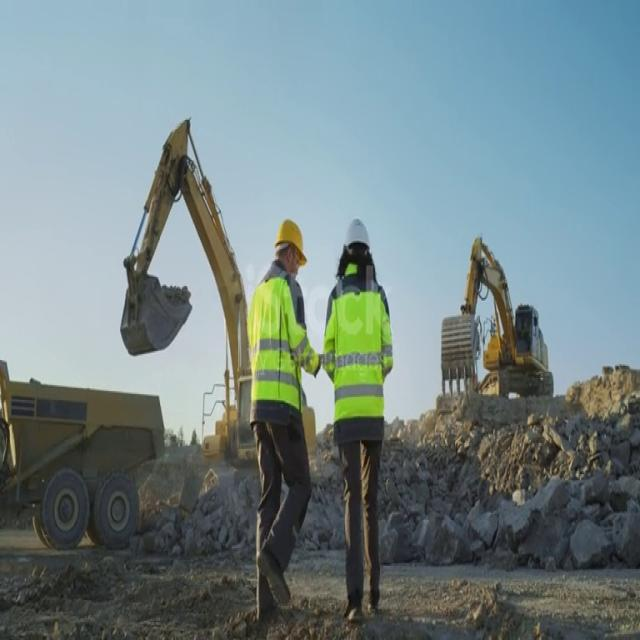capacete: (270, 206, 310, 262), (338, 211, 377, 257)
